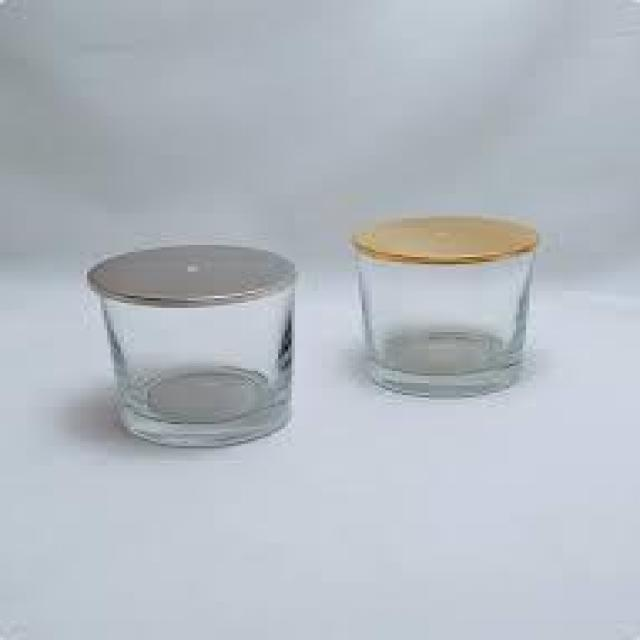glass: (87, 238, 302, 450), (346, 212, 542, 399)
